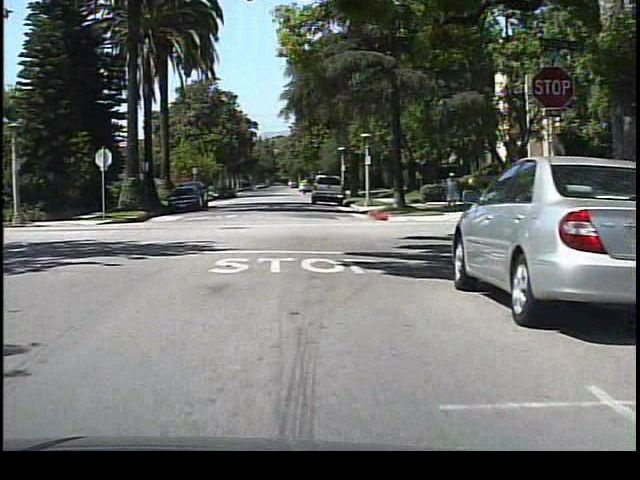person: (439, 167, 463, 214)
